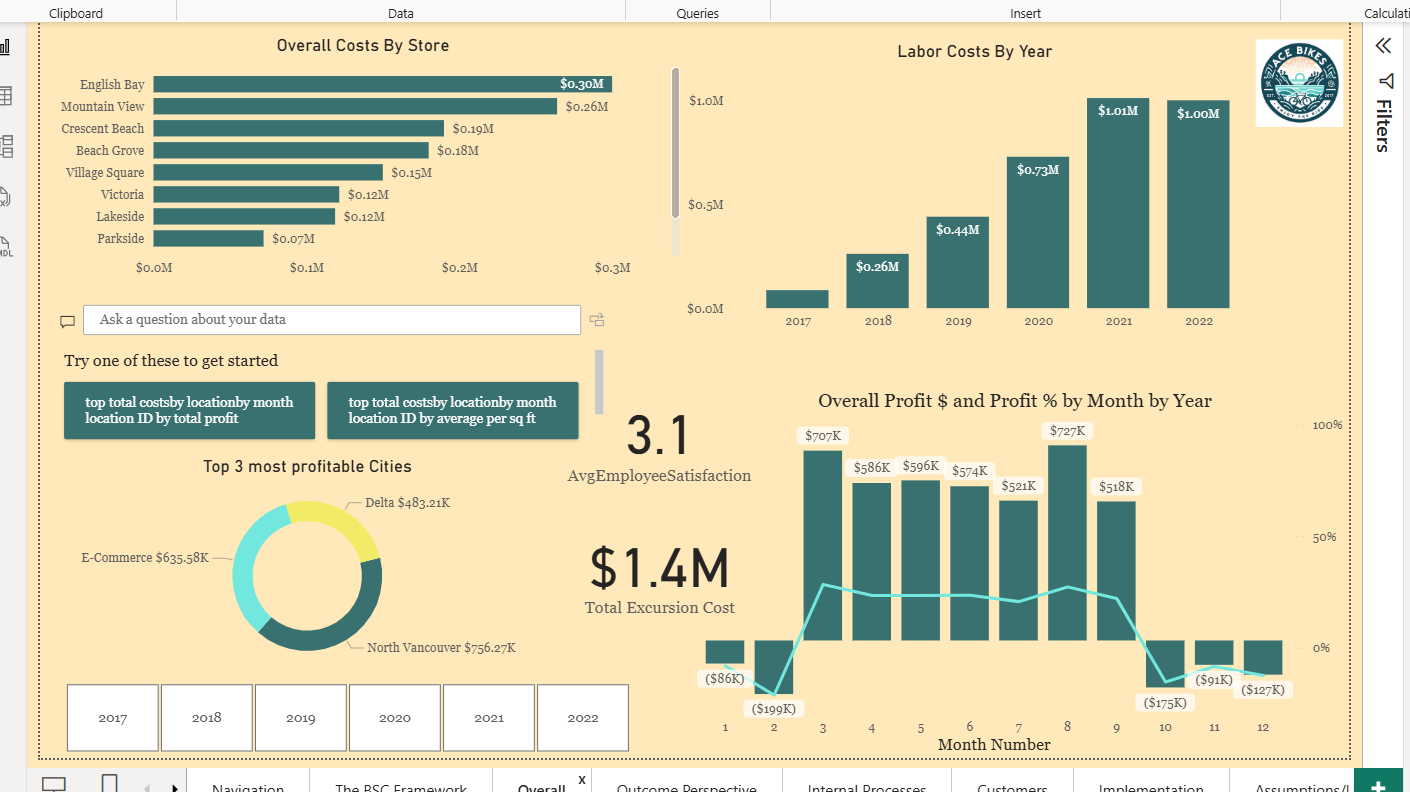

What the dashboard file says about the page in this screenshot:
{"tool":"powerbi","page":{"name":"Overall","canvas":[1280,720],"ordinal":2},"visuals":[{"type":"lineStackedColumnComboChart","title":"Overall Profit $ and Profit % by Month by Year","fields":{"Y":["SalesbyLocationbyMonthbyCategory.Total Profit"],"Y2":["SalesbyLocationbyMonthbyCategory.Profit %"],"Category":["Filter Control.Month Number"]},"box":[627.3,359.5,653,360.7],"z":0},{"type":"image","box":[1183.7,12.2,96.6,95.4],"z":1000},{"type":"columnChart","title":"Labor Costs By Year","fields":{"Category":["Filter Control.Year"],"Y":["Sum(TotalCostsbyLocationbyMonth.TotalCost)"]},"box":[627.3,18.3,574.7,289.8],"z":2000},{"type":"barChart","title":"Overall Costs By Store","fields":{"Y":["TotalCostsbyLocationbyMonth.Overall Costs"],"Category":["Locations.Store Name"]},"box":[1.2,12.2,629.8,244.6],"z":3000},{"type":"card","fields":{"Values":["SalesbyLocationbyMonthbyCategory.AvgEmployeeSatisfaction"]},"box":[502.6,354.6,207.9,102.7],"z":4000},{"type":"card","fields":{"Values":["Sum(ExcursionCostsbyLocationbyMonthbyCategory.TotalCost)"]},"box":[502.6,484.2,207.9,102.7],"z":5000},{"type":"slicer","fields":{"Values":["Filter Control.Year"]},"box":[0,640.8,600.4,79.5],"z":6000},{"type":"qnaVisual","box":[11,251.9,549.1,172.4],"z":7000},{"type":"donutChart","title":"Top 3 most profitable Cities ","fields":{"Y":["SalesbyLocationbyMonthbyCategory.Total Profit"],"Category":["Locations.City"]},"box":[11,424.3,501.4,216.4],"z":8000}]}

Visuals, with their boxes on the page's 1280x720 design canvas (x1, y1, x2, y2). These are canvas units, not pixel positions in the 1410x792 screenshot, which may show the page scaled, cropped or inside an application window:
"Overall Profit $ and Profit % by Month by Year" lineStackedColumnComboChart: {"left": 627, "top": 360, "right": 1280, "bottom": 720}
image: {"left": 1184, "top": 12, "right": 1280, "bottom": 108}
"Labor Costs By Year" columnChart: {"left": 627, "top": 18, "right": 1202, "bottom": 308}
"Overall Costs By Store" barChart: {"left": 1, "top": 12, "right": 631, "bottom": 257}
card - SalesbyLocationbyMonthbyCategory.AvgEmployeeSatisfaction: {"left": 503, "top": 355, "right": 710, "bottom": 457}
card - Sum(ExcursionCostsbyLocationbyMonthbyCategory.TotalCost): {"left": 503, "top": 484, "right": 710, "bottom": 587}
slicer - Filter Control.Year: {"left": 0, "top": 641, "right": 600, "bottom": 720}
qnaVisual: {"left": 11, "top": 252, "right": 560, "bottom": 424}
"Top 3 most profitable Cities " donutChart: {"left": 11, "top": 424, "right": 512, "bottom": 641}
